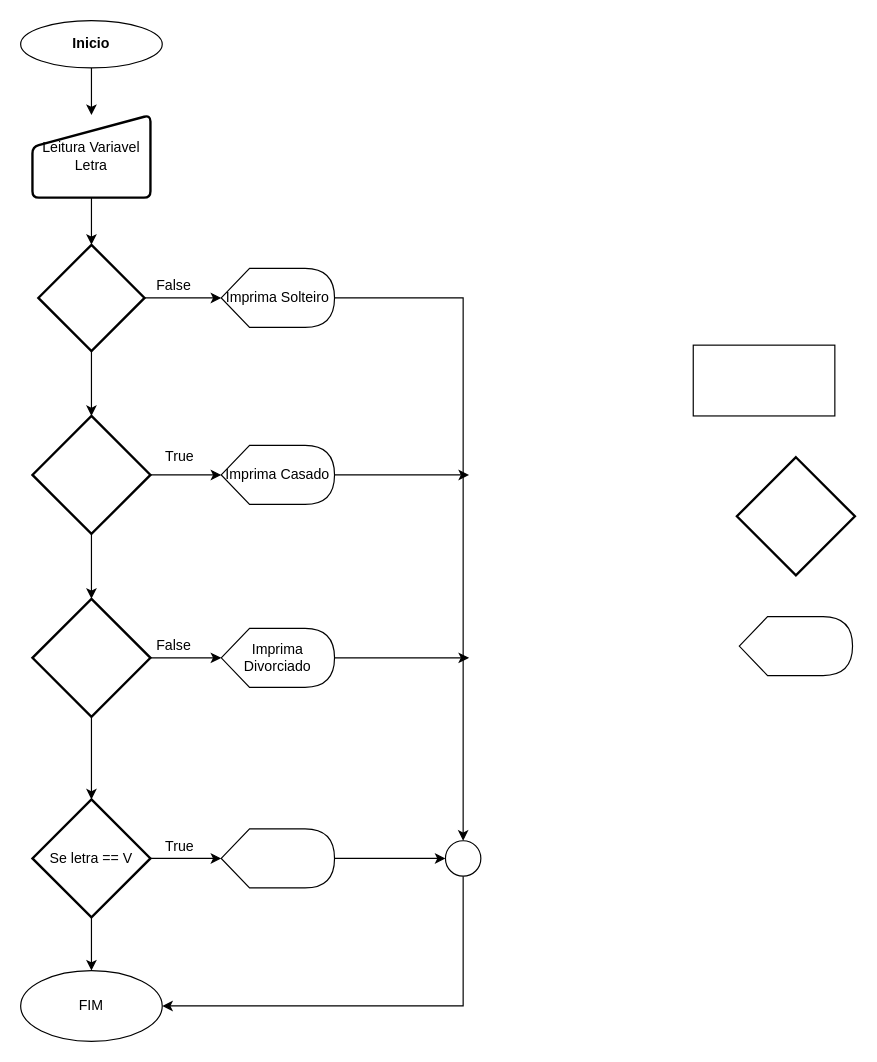
This 877x1062 diagram has some shape labels left out. The centre of each missing label's shape, as x and y in pixels:
Imprima Viúvo: (277,858)
Se letra == C: (91,474)
Se letra == D: (91,657)
Se letra == S: (91,297)
